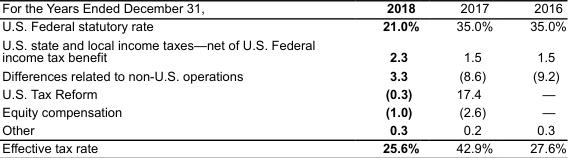table: (1, 0, 565, 154)
table column: (1, 0, 348, 154), (348, 0, 437, 154), (437, 0, 510, 154), (510, 0, 565, 154)
table column header: (1, 0, 565, 16)
table row: (1, 35, 565, 66), (1, 16, 565, 35), (1, 66, 565, 84), (1, 84, 565, 102), (1, 102, 565, 120), (1, 120, 565, 138), (1, 0, 565, 16), (1, 138, 565, 154)
